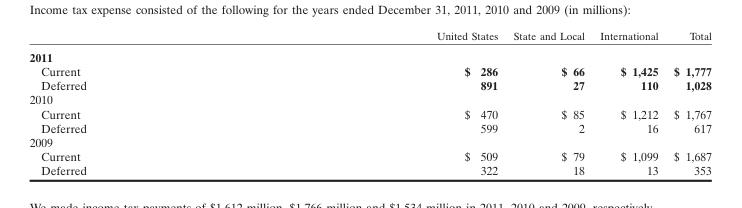table: (28, 28, 710, 177)
table column: (260, 28, 504, 177), (28, 28, 260, 177), (504, 28, 591, 177), (591, 28, 665, 177), (665, 28, 710, 177)
table column header: (28, 28, 710, 45)
table projected row header: (28, 45, 710, 63), (28, 92, 710, 106), (28, 134, 710, 148)
table row: (28, 45, 710, 63), (28, 28, 710, 45), (28, 77, 710, 92), (28, 148, 710, 163), (28, 63, 710, 77), (28, 92, 710, 106), (28, 106, 710, 120), (28, 120, 710, 134), (28, 134, 710, 148), (28, 163, 710, 177)
